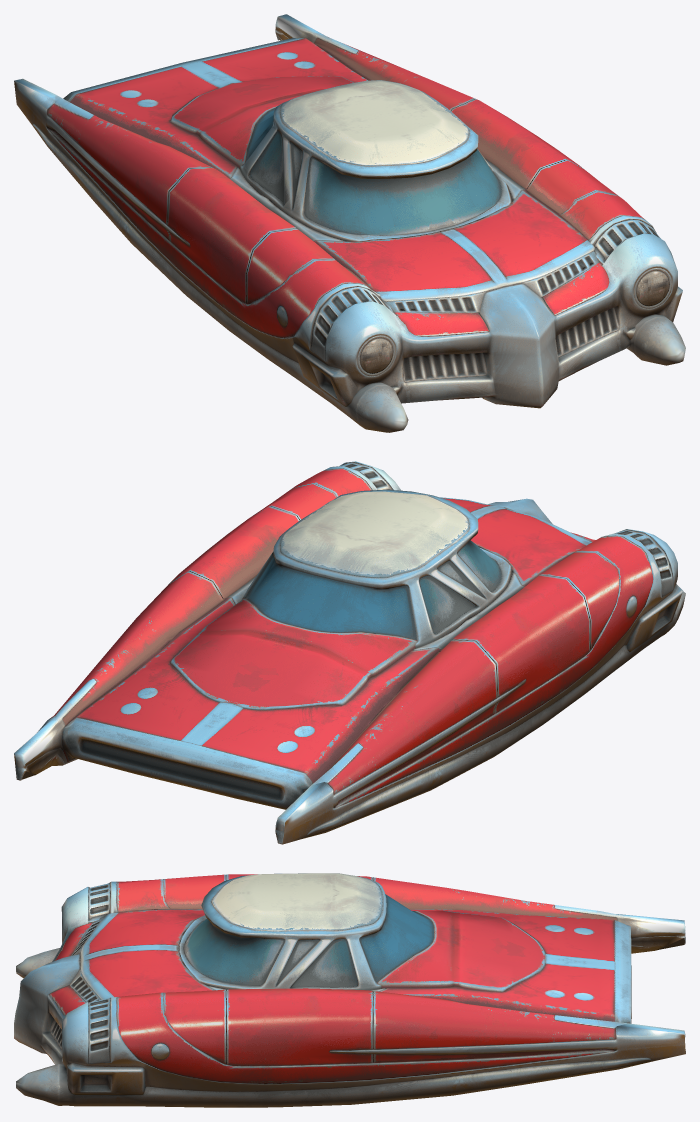
Rendered from fallout_car.glb.
3 views of the same model, one above another, from view 1: azimuth 30°, elevation 25°; view 2: azimuth 150°, elevation 25°; view 3: azimuth 270°, elevation 25° (orthographic). The views are drawn at different scales.
Parts seen in each view (by area): view 1: default_default_0; view 2: default_default_0; view 3: default_default_0.
Boxes of the visible parts, x1,y1,x2,y2 form: default_default_0: (14,14,685,432); default_default_0: (14,461,685,844); default_default_0: (14,873,685,1107).
Bounding box in the file's own units: 341 × 167 × 660.
Materials: 1 (1 with a texture image).
